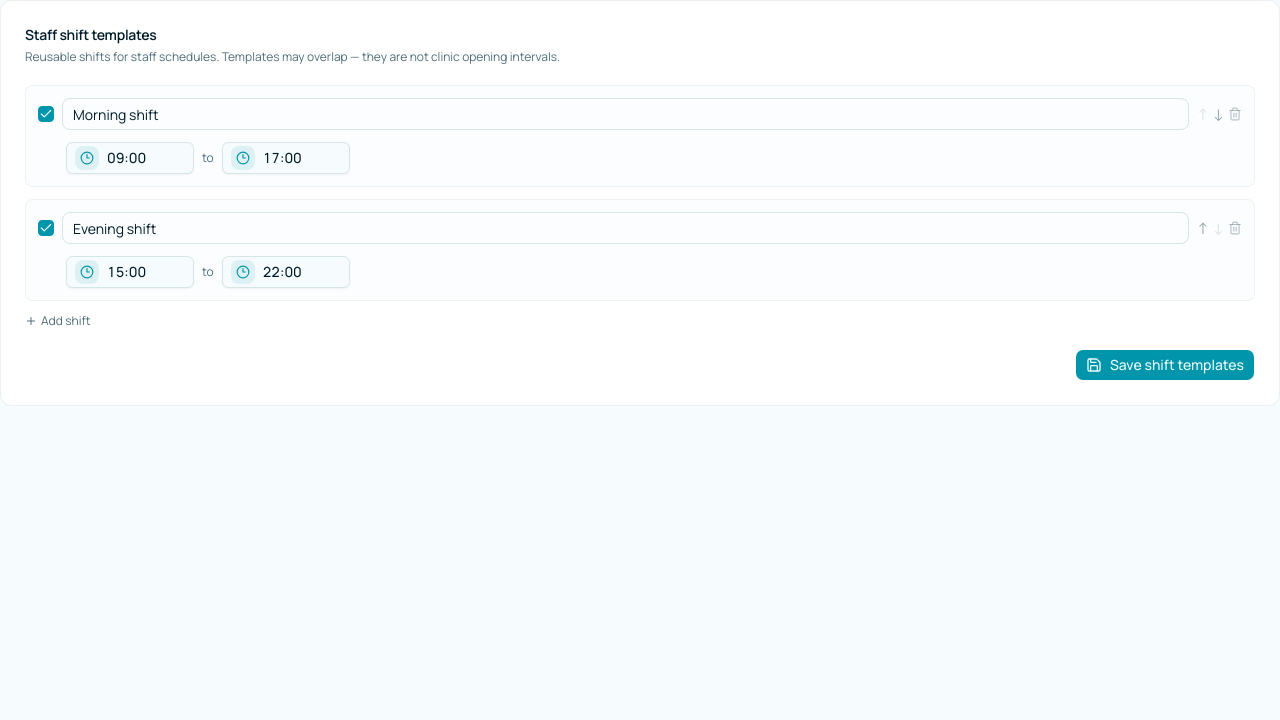
Test case: P14 · staff shift templates card › flags more enabled templates than the supported maximum
This screenshot has width=1280, height=720.
Click the button "Add shift": coordinates (58, 321) [25,313,90,329]
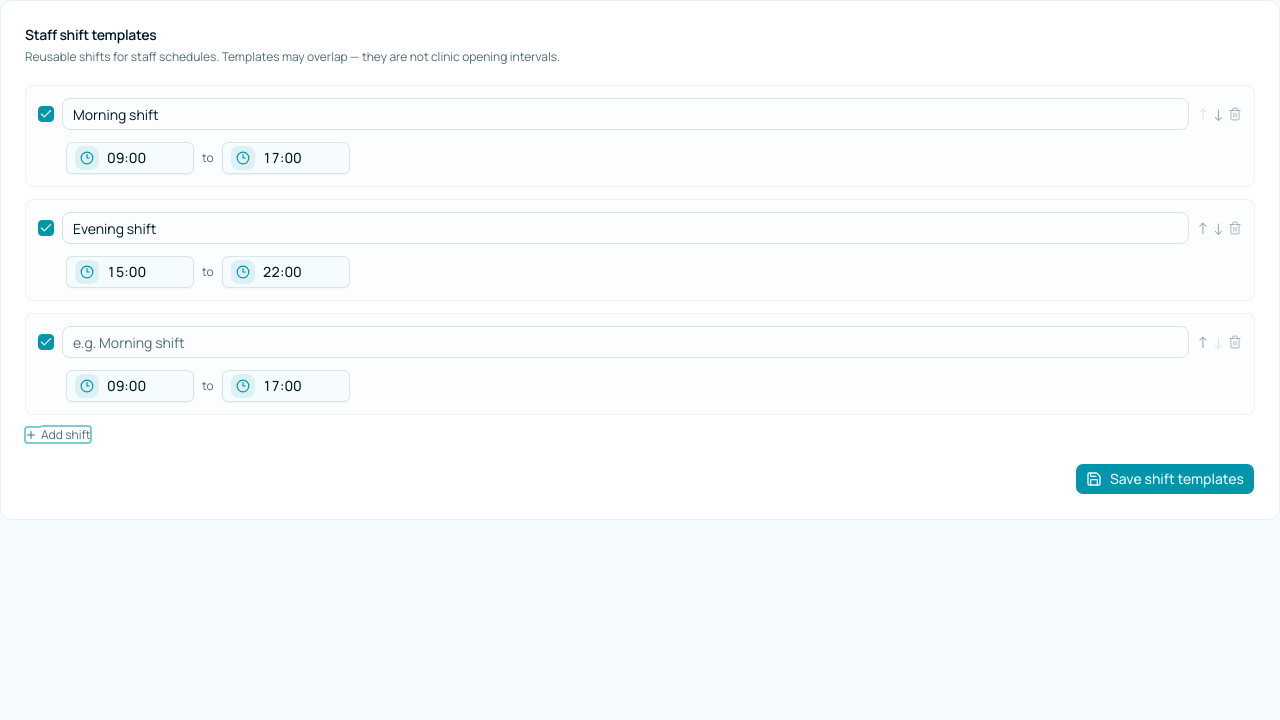
Click the button "Add shift": coordinates (58, 435) [25,427,90,443]
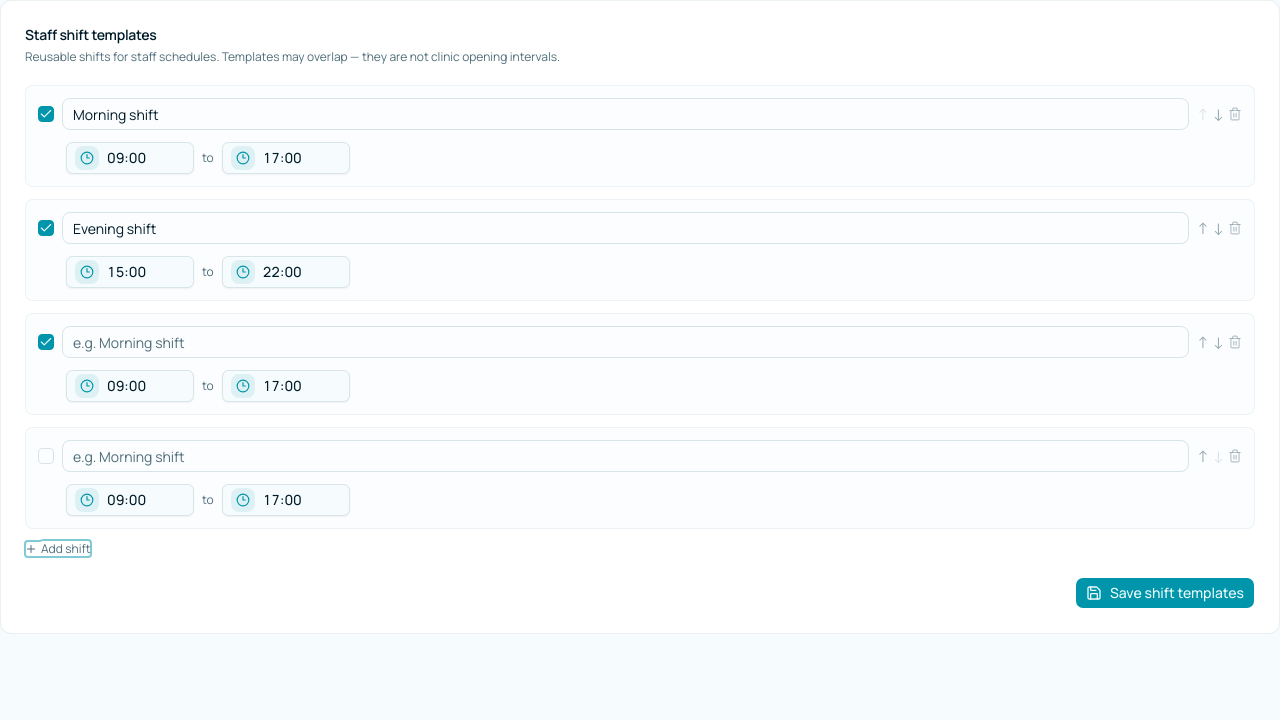
Result: the number of checkboxes is 4
Click the 4th checkbox: coordinates (46, 456) [38,448,54,464]
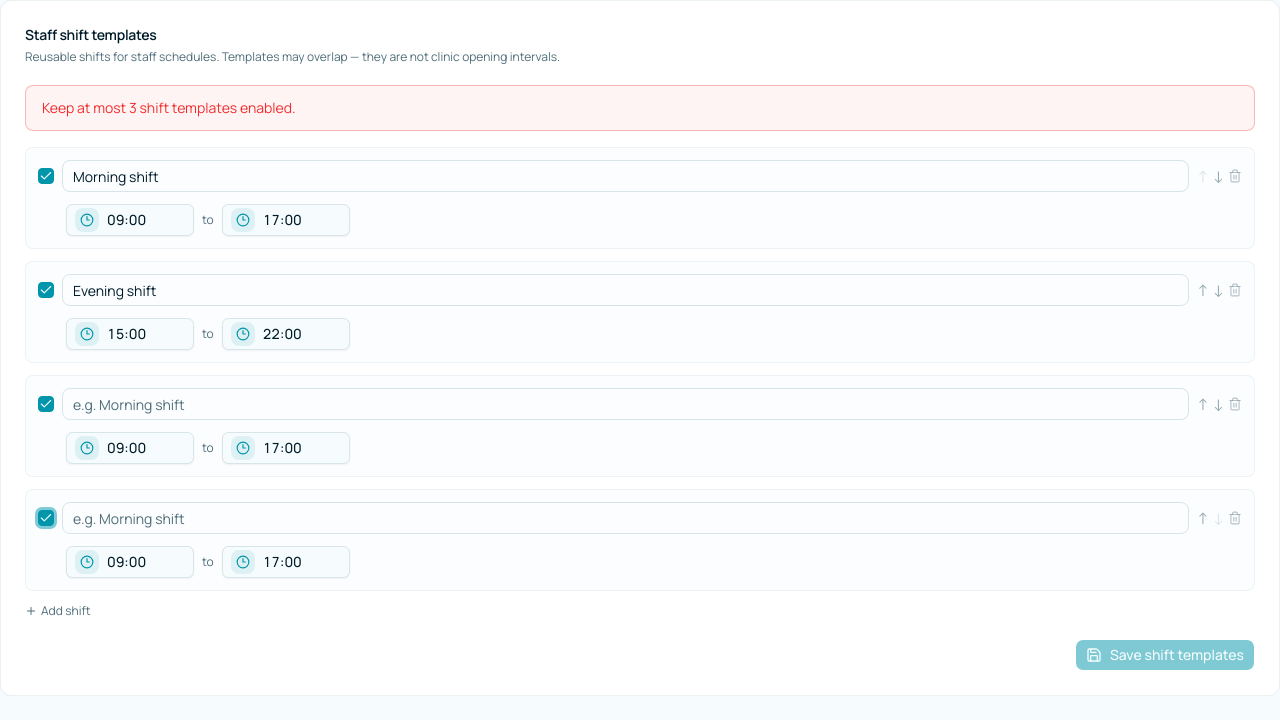
Result: the button "Save shift templates" is disabled at [1075,639,1255,671]
